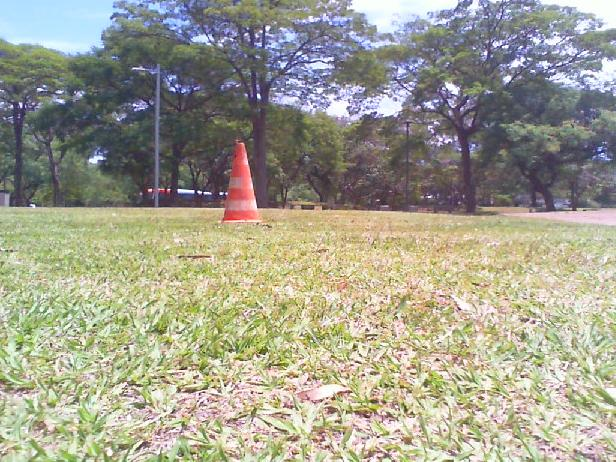0 cone: (223, 143, 261, 223)
